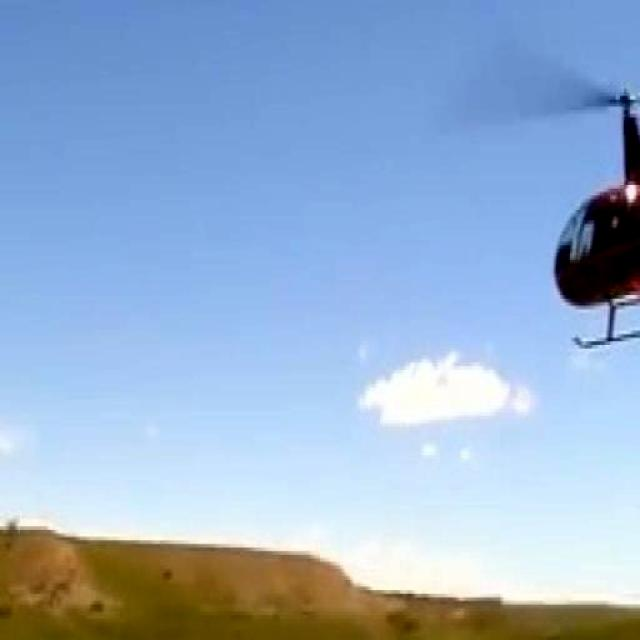drone: (526, 50, 640, 369)
